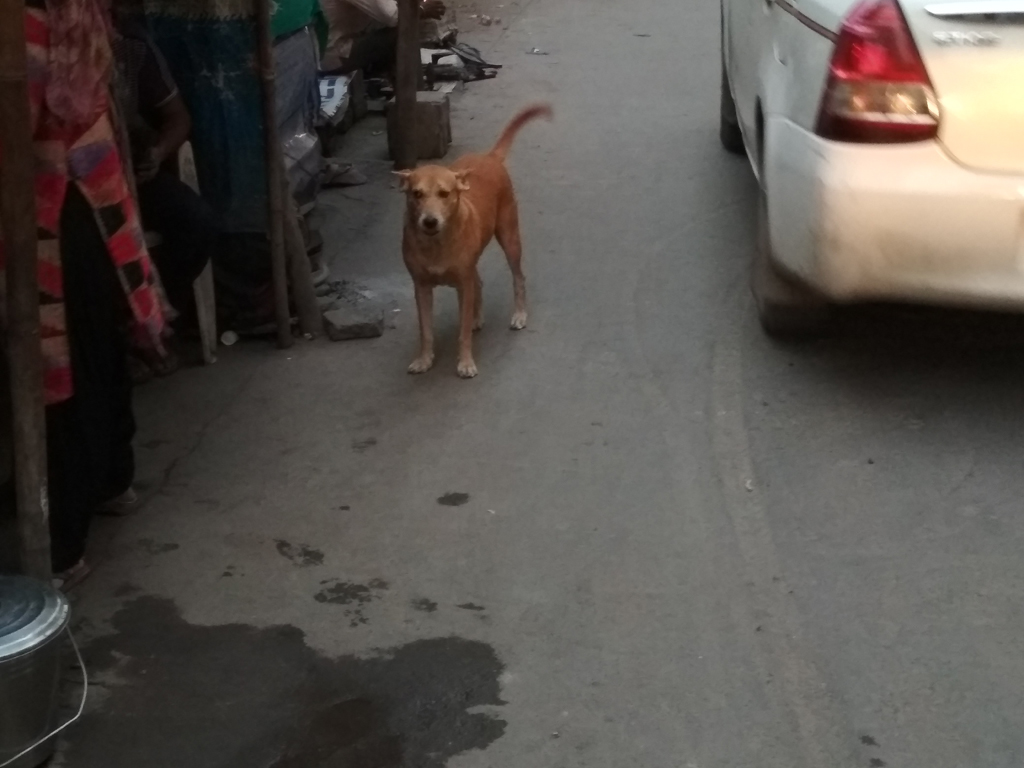dog: (388, 104, 561, 379)
